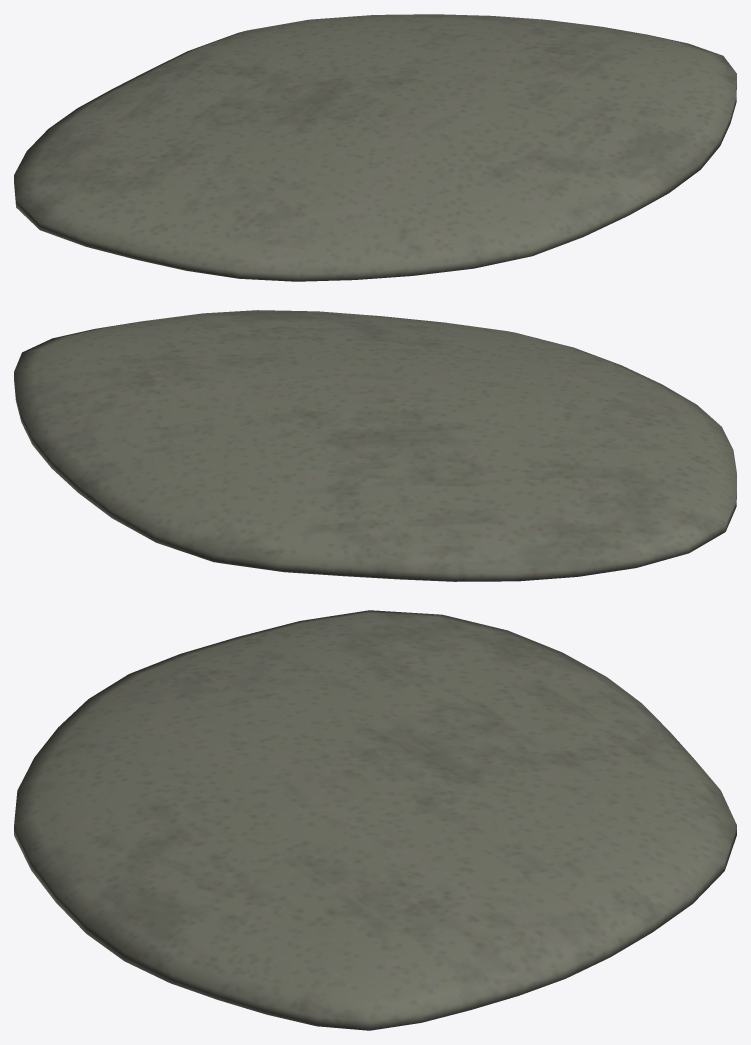
The model's file is standard_07.glb.
3 renders of one model, top to bottom at view 1: azimuth 30°, elevation 25°; view 2: azimuth 150°, elevation 25°; view 3: azimuth 270°, elevation 25°, orthographic. The views are drawn at different scales.
Parts seen in each view (by area): view 1: standard_07; view 2: standard_07; view 3: standard_07.
Part boxes in pixels (x1=…): standard_07: x1=14, y1=14, x2=736, y2=281; standard_07: x1=14, y1=310, x2=736, y2=581; standard_07: x1=14, y1=610, x2=736, y2=1030.
Size of the model in its own units: 0.0842 by 0.00898 by 0.0627.
1 material, 1 textured.
